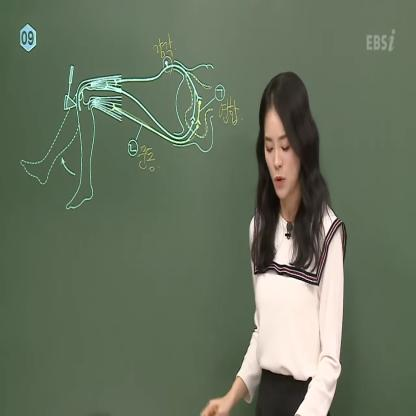streamer: (200, 72, 347, 416)
